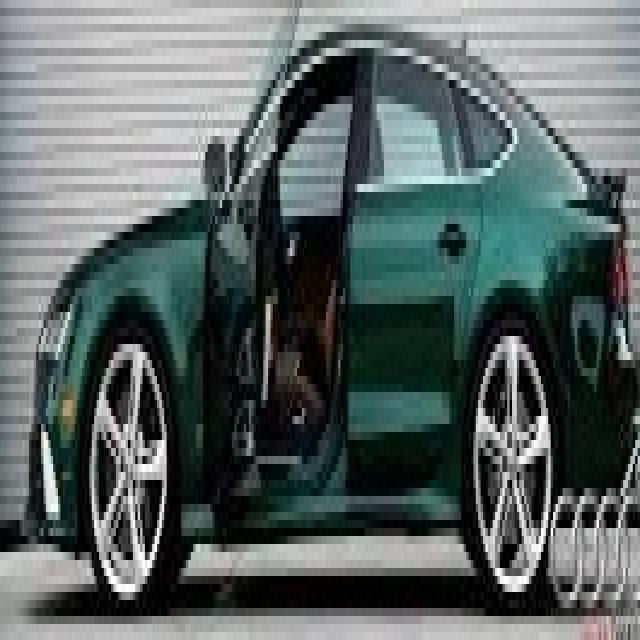green: (29, 6, 636, 640)
